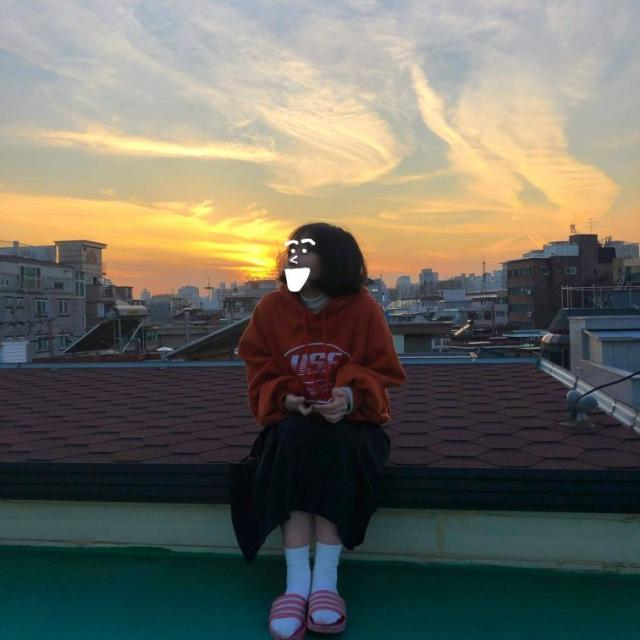hoodies: (242, 282, 400, 432)
skirt: (227, 412, 396, 561)
